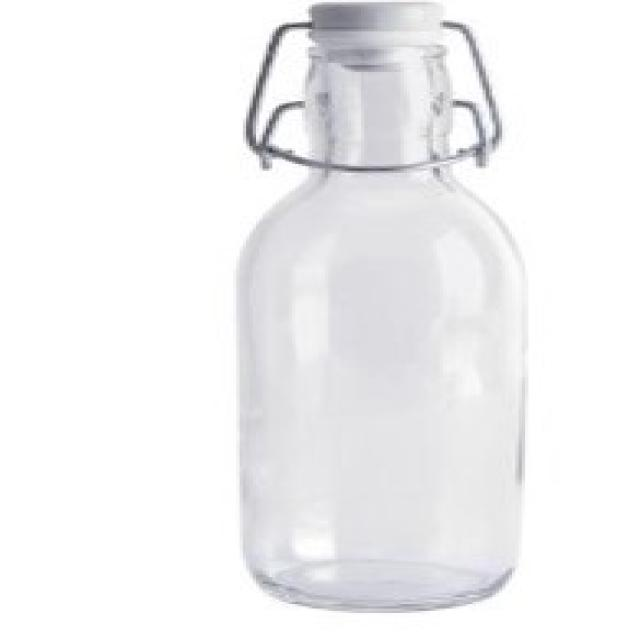electronic: (235, 0, 530, 613)
